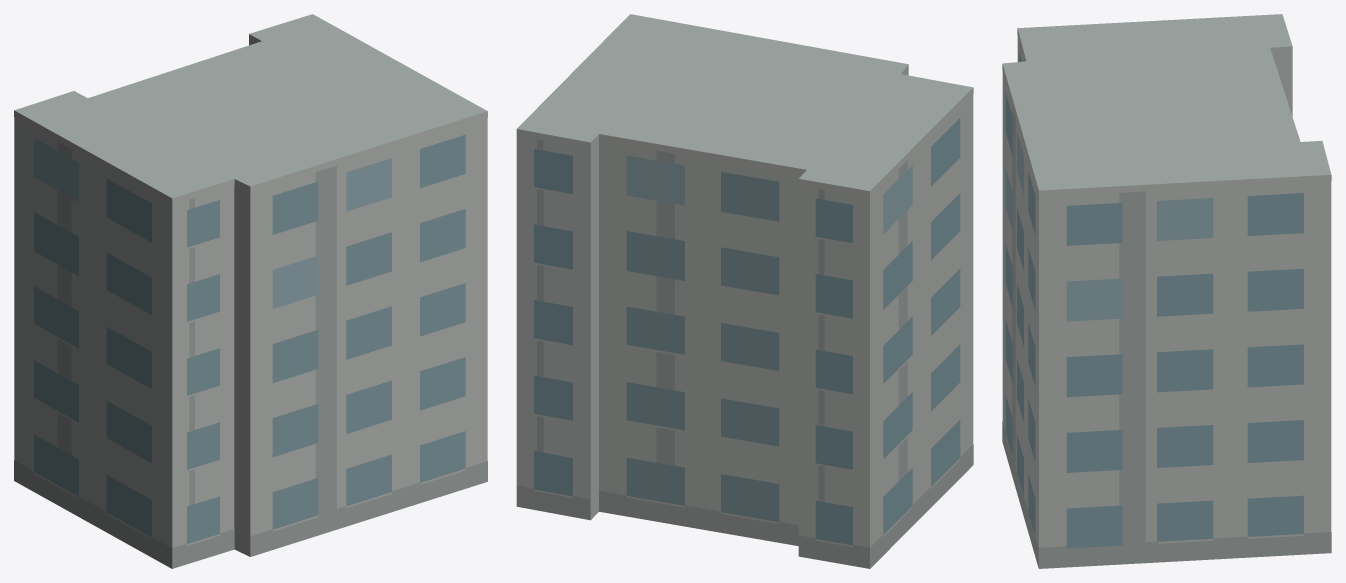
Rendered from survey-upis-32945998.glb.
3 renders of one model, left to right at view 1: azimuth 30°, elevation 25°; view 2: azimuth 150°, elevation 25°; view 3: azimuth 270°, elevation 25°, orthographic. The views are drawn at different scales.
Parts seen in each view (by area): view 1: survey-upis-32945998.tmp; view 2: survey-upis-32945998.tmp; view 3: survey-upis-32945998.tmp.
Boxes of the visible parts, <box> form: survey-upis-32945998.tmp: <box>14,14,487,568</box>; survey-upis-32945998.tmp: <box>516,14,973,568</box>; survey-upis-32945998.tmp: <box>1002,14,1331,568</box>.
Size of the model in its own units: 13.92 by 13.9 by 10.97.
